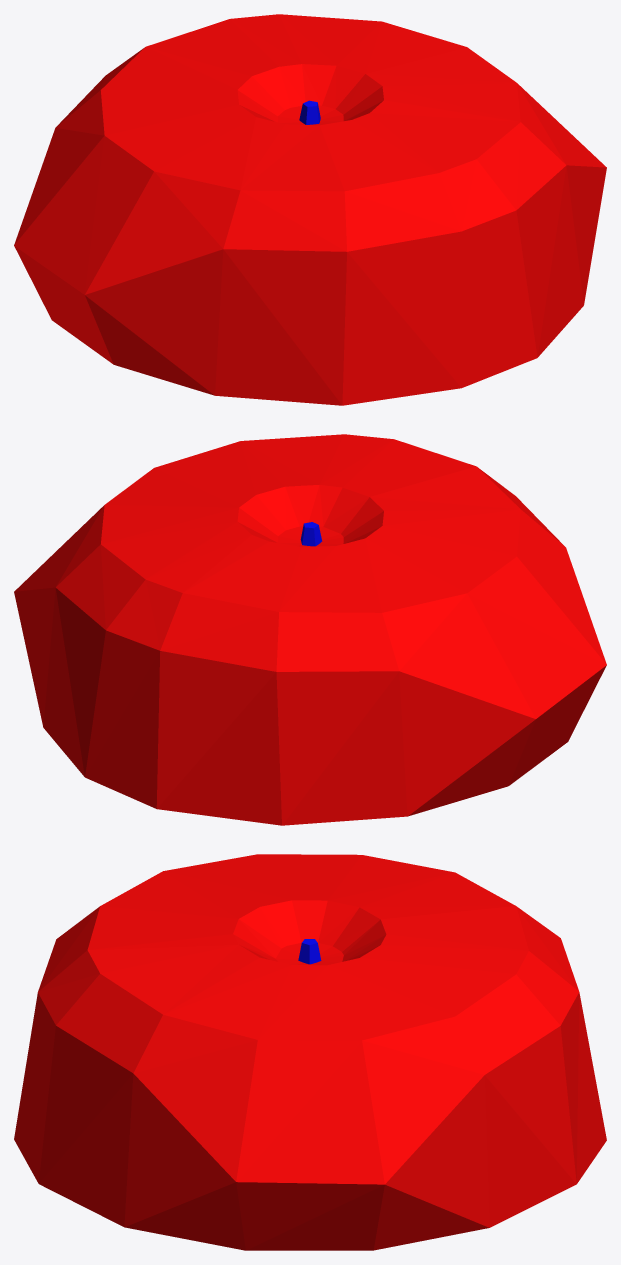
Rendered from head_beret_01.glb.
3 renders of one model, top to bottom at view 1: azimuth 30°, elevation 25°; view 2: azimuth 150°, elevation 25°; view 3: azimuth 270°, elevation 25°, orthographic. The views are drawn at different scales.
Parts seen in each view (by area): view 1: head_beret_01; view 2: head_beret_01; view 3: head_beret_01.
Part boxes in pixels (x1,y1,x2,y2): head_beret_01: (14, 14, 606, 405); head_beret_01: (14, 434, 606, 825); head_beret_01: (14, 854, 606, 1250).
Bounding box in the file's own units: 0.3385 × 0.1223 × 0.3173.
Materials: 1 (1 with a texture image).
